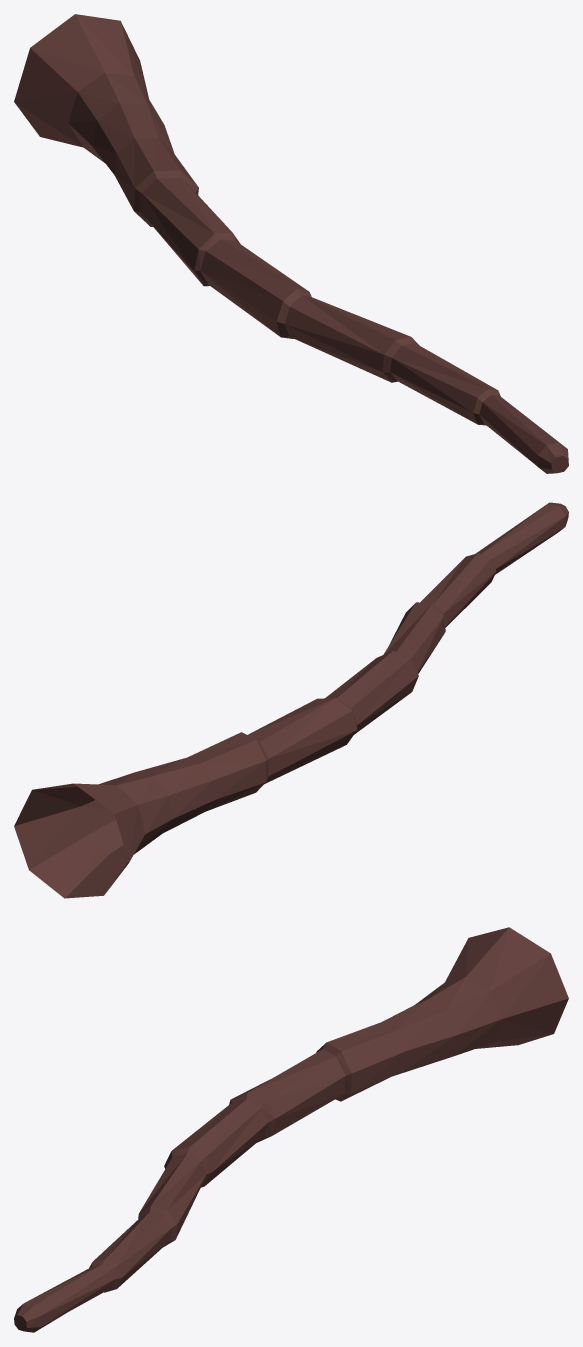
Rendered from PalmBent3.glb.
3 views of the same model, one above another, from view 1: azimuth 30°, elevation 25°; view 2: azimuth 150°, elevation 25°; view 3: azimuth 330°, elevation 25° (orthographic). The views are drawn at different scales.
Parts seen in each view (by area): view 1: PalmBent3; view 2: PalmBent3; view 3: PalmBent3.
Part boxes in pixels (x1,y1,x2,y2): PalmBent3: (14, 14, 568, 473); PalmBent3: (14, 502, 568, 898); PalmBent3: (14, 927, 568, 1332).
Bounding box in the file's own units: 0.9105 × 0.6883 × 4.99.
Materials: 1 (1 with a texture image).
